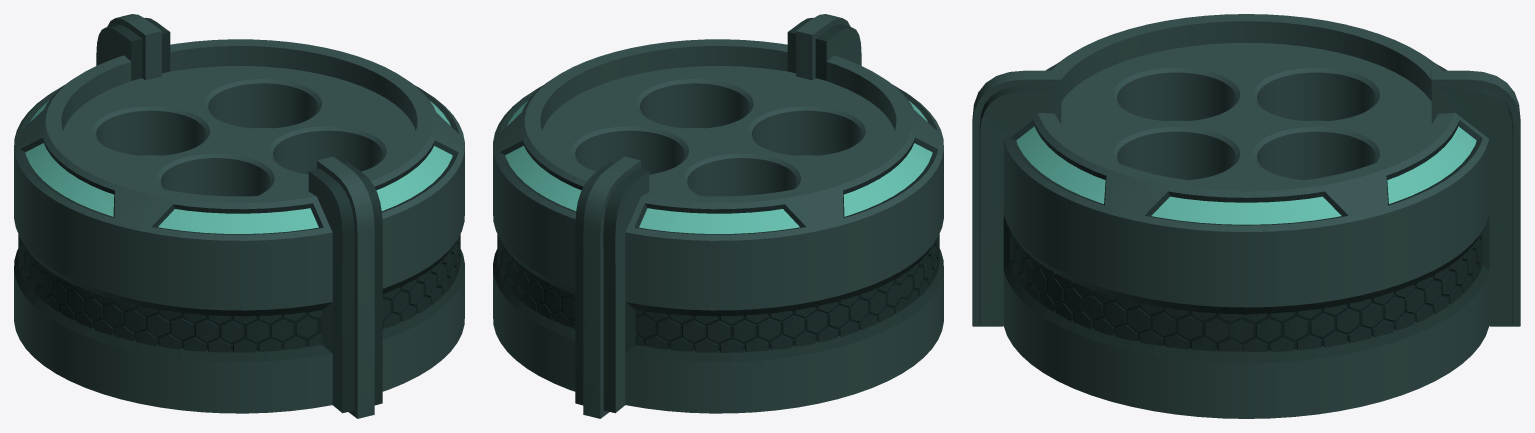
File: SimonsSays_Center.fbx
The picture shows the model from 3 angles, left to right: view 1: azimuth 30°, elevation 25°; view 2: azimuth 150°, elevation 25°; view 3: azimuth 270°, elevation 25°; orthographic projection. The views are drawn at different scales.
Parts seen in each view (by area): view 1: SimonsSays_Center; view 2: SimonsSays_Center; view 3: SimonsSays_Center.
Boxes of the visible parts, x1,y1,x2,y2 form: SimonsSays_Center: (14,14,464,418); SimonsSays_Center: (493,14,943,418); SimonsSays_Center: (972,14,1520,418).
Size of the model in its own units: 708 by 396 by 795.
